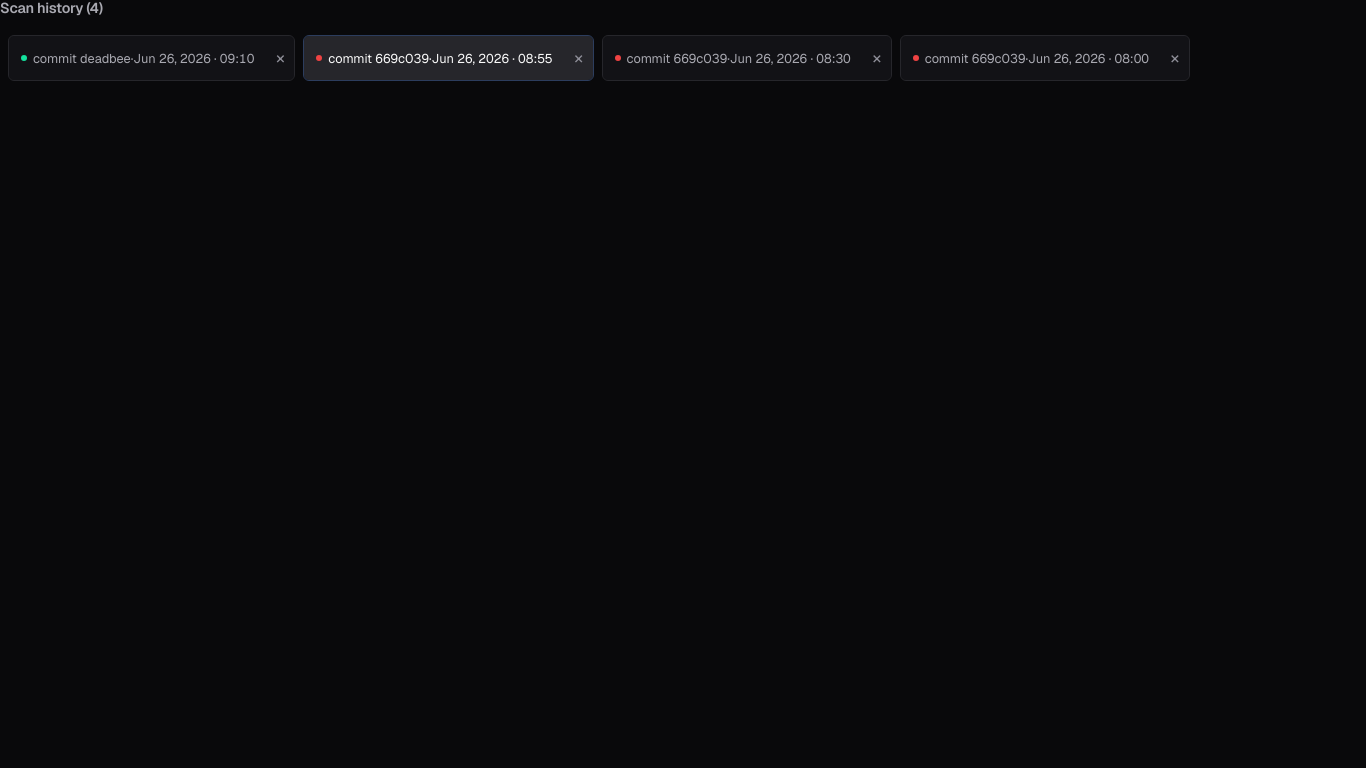
Test: ScanHistoryRail › opens a confirm dialog from × without deleting until confirmed
Step 1. Click the button with test id "scan-history-delete-scan-3" → (579, 58), box [565,36,593,80]
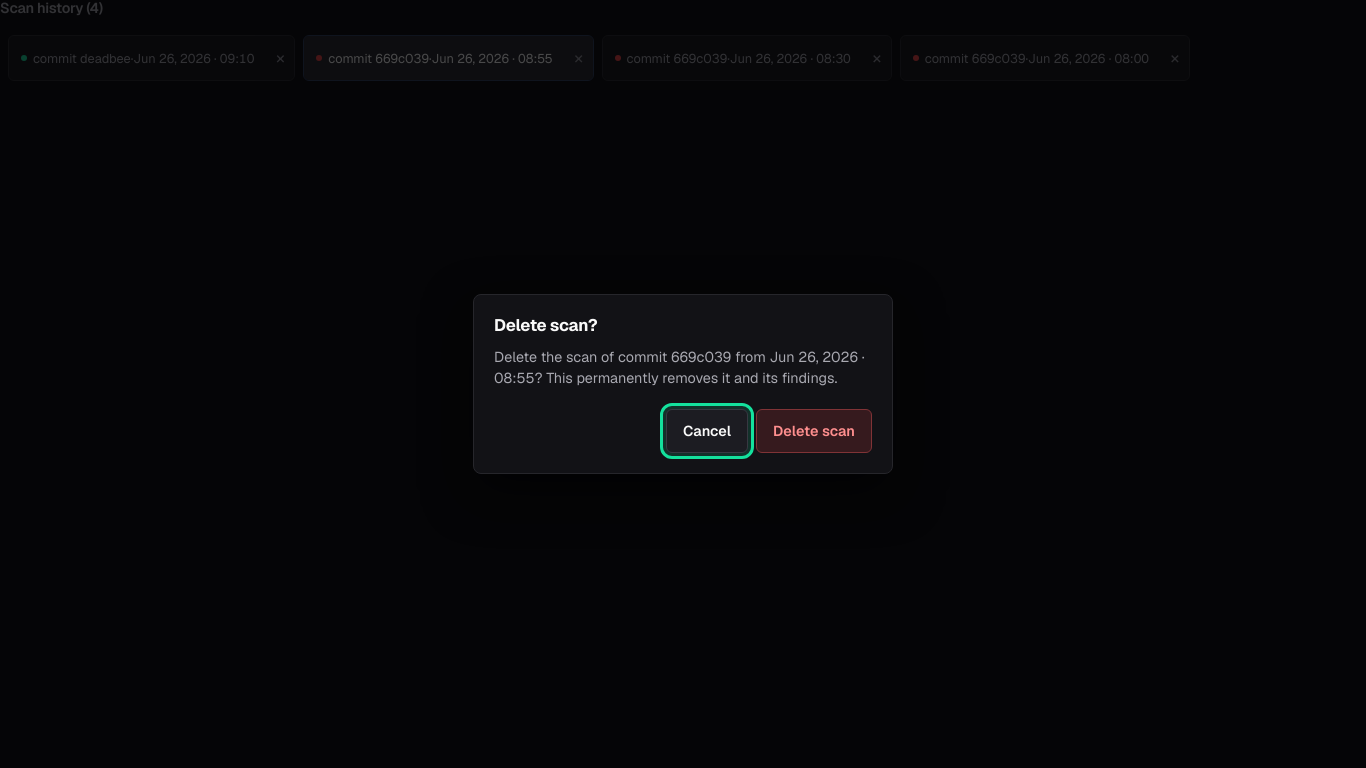
Check: the element with test id "scan-delete-dialog" that starts with "Delete scan?" is shown
Check: the dialog "Delete scan?" is shown, box [473,294,893,474]
